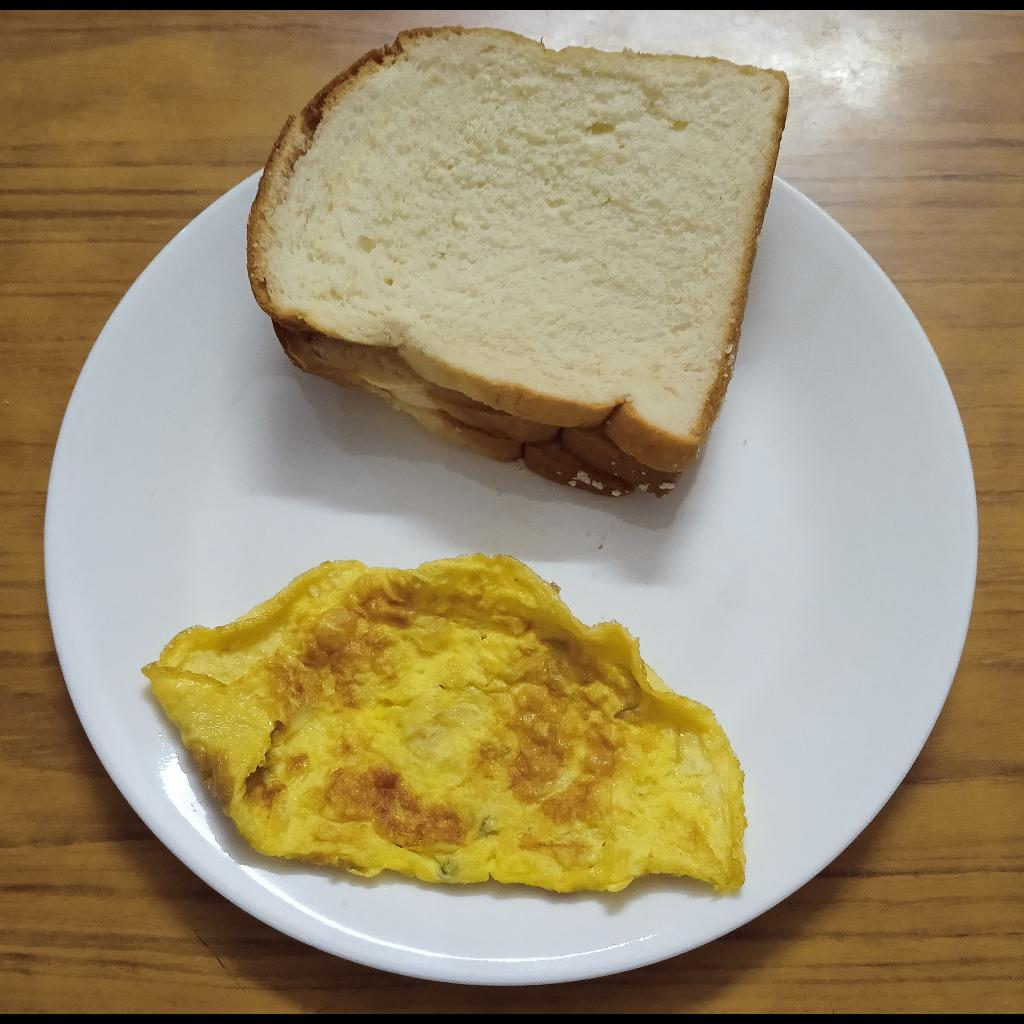bread: (245, 25, 790, 498)
egg-poached: (143, 553, 745, 896)
